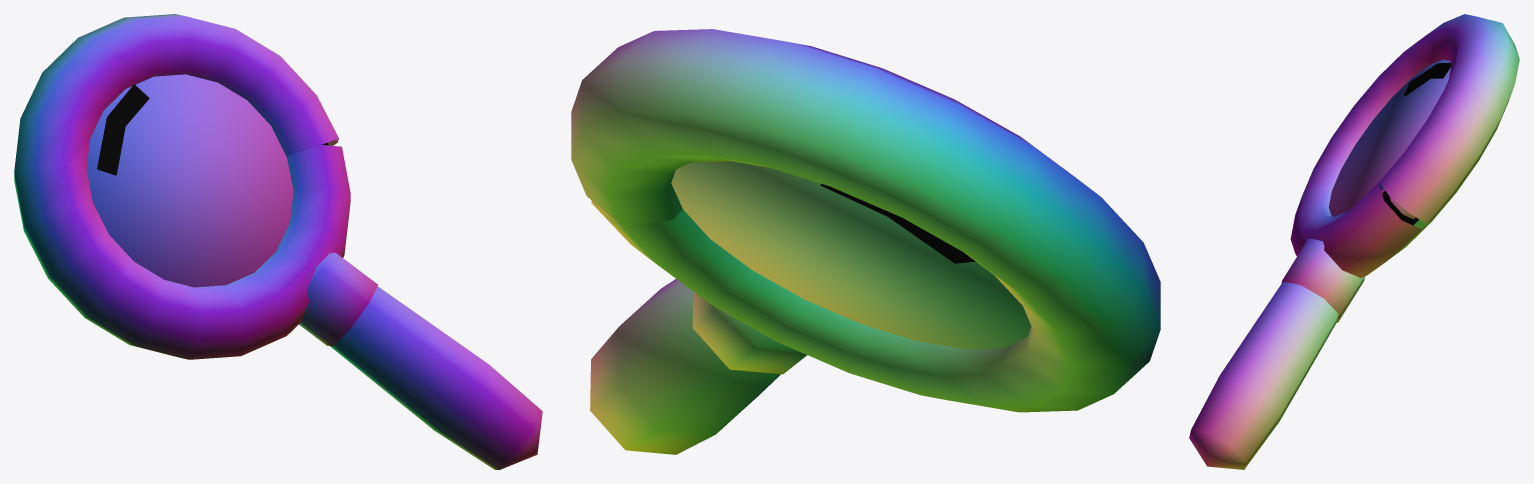
The model's file is SM_FX_ClueMagnifier.fbx.
3 renders of one model, left to right at view 1: azimuth 30°, elevation 25°; view 2: azimuth 150°, elevation 25°; view 3: azimuth 270°, elevation 25°, orthographic. The views are drawn at different scales.
Parts seen in each view (by area): view 1: SM_FX_ClueMagnifier; view 2: SM_FX_ClueMagnifier; view 3: SM_FX_ClueMagnifier.
Part boxes in pixels (x1=…): SM_FX_ClueMagnifier: x1=14, y1=14, x2=542, y2=469; SM_FX_ClueMagnifier: x1=571, y1=29, x2=1160, y2=454; SM_FX_ClueMagnifier: x1=1189, y1=14, x2=1519, y2=469.
Bounding box in the file's own units: 0.5011 × 0.4561 × 0.3959.
